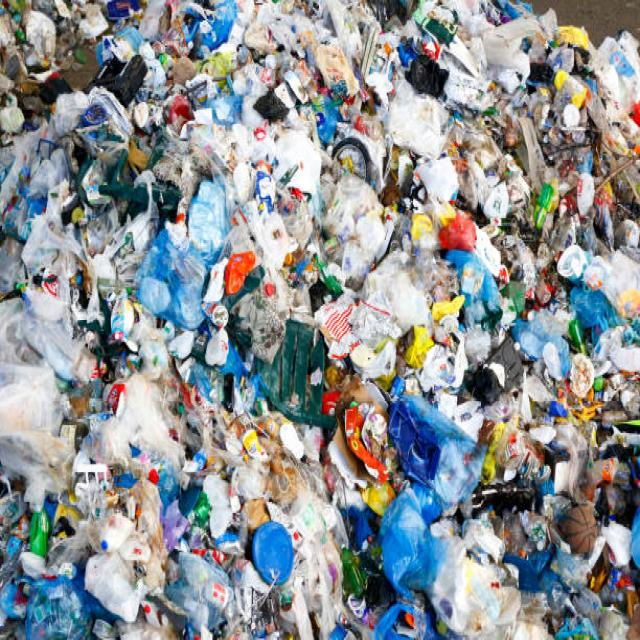trash: (16, 42, 626, 612)
